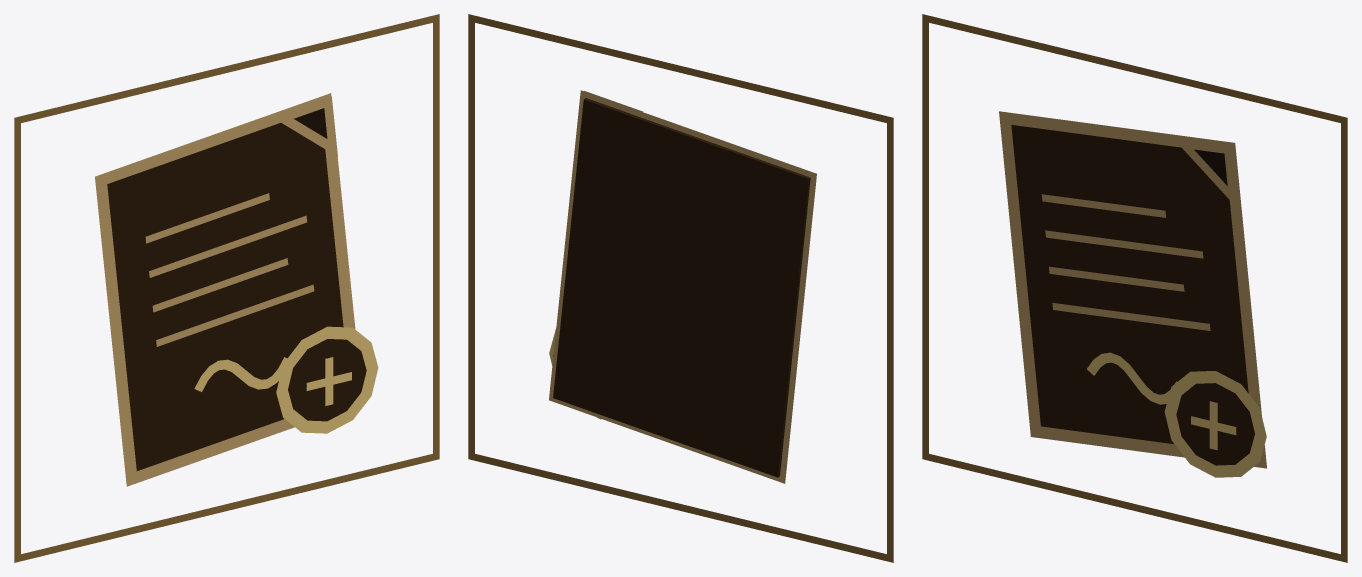
Rendered from obj-raspiska.glb.
3 renders of one model, left to right at view 1: azimuth 30°, elevation 25°; view 2: azimuth 150°, elevation 25°; view 3: azimuth 330°, elevation 25°, orthographic.
Visible parts, largest first — view 1: obj-raspiska; view 2: obj-raspiska; view 3: obj-raspiska.
Boxes of the visible parts, left/top/right/bottom form: obj-raspiska: left=14, top=14, right=439, bottom=562; obj-raspiska: left=468, top=14, right=893, bottom=562; obj-raspiska: left=922, top=14, right=1347, bottom=562.
Bounding box in the file's own units: 0.376 × 0.376 × 0.0182.
